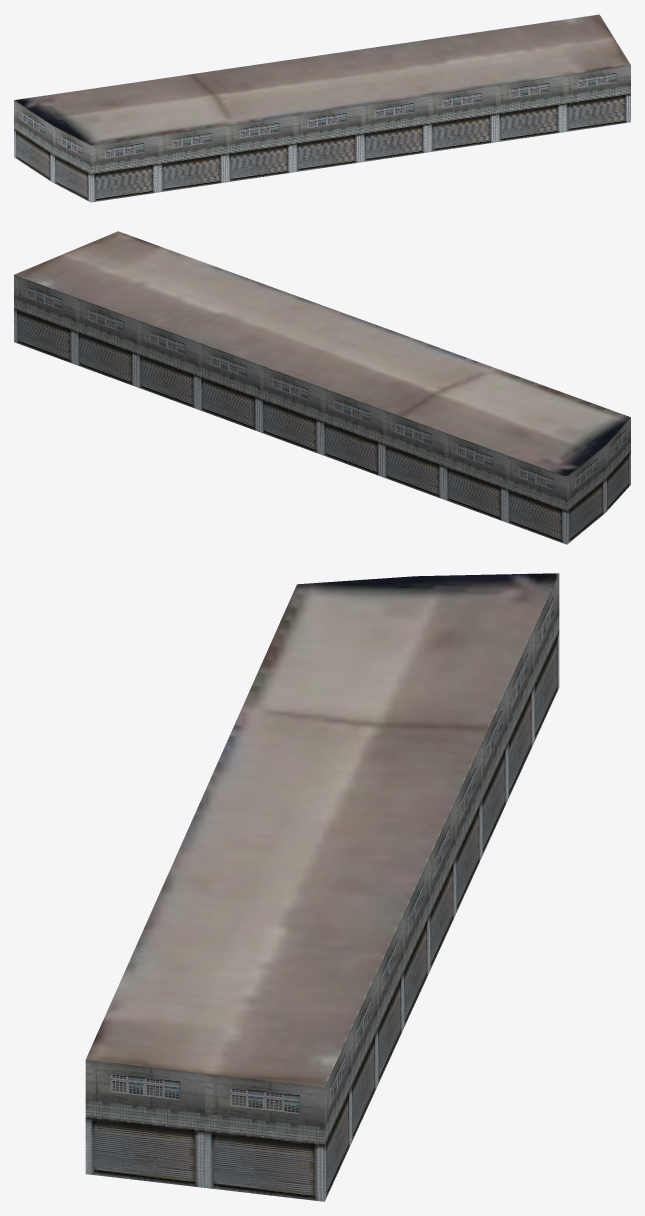
The picture shows the model from 3 angles, top to bottom: view 1: azimuth 30°, elevation 25°; view 2: azimuth 150°, elevation 25°; view 3: azimuth 270°, elevation 25°; orthographic projection. The views are drawn at different scales.
Visible parts, largest first — view 1: SketchUp (×7); view 2: SketchUp (×7); view 3: SketchUp (×5).
Part boxes in pixels (x1,y1,x2,y2): SketchUp (×7): (14,14,630,202); SketchUp (×7): (14,231,630,544); SketchUp (×5): (85,573,559,1201).
Size of the model in its own units: 49.1 by 19.11 by 5.09.
Materials: 3 (3 with a texture image).
